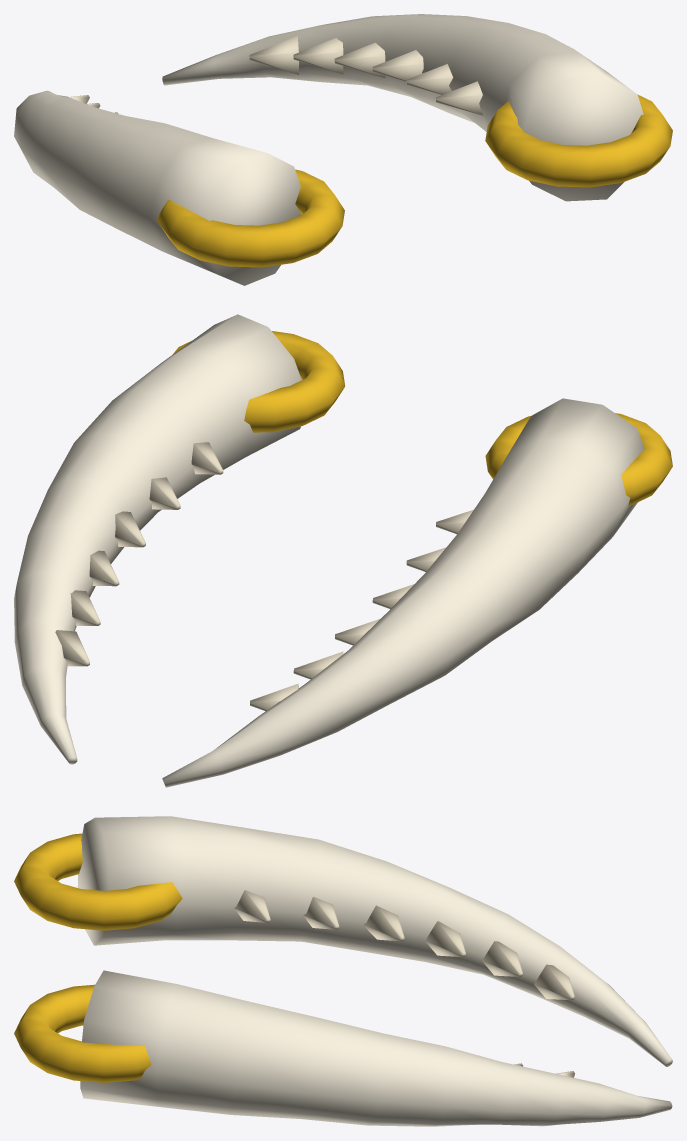
File: cosmetics-fangs.glb
3 renders of one model, top to bottom at view 1: azimuth 30°, elevation 25°; view 2: azimuth 150°, elevation 25°; view 3: azimuth 270°, elevation 25°, orthographic. The views are drawn at different scales.
Parts seen in each view (by area): view 1: Fangs__Tusks, Fangs__Rings, Fangs__Serration; view 2: Fangs__Tusks, Fangs__Rings, Fangs__Serration; view 3: Fangs__Tusks, Fangs__Rings, Fangs__Serration.
Boxes of the visible parts, x1,y1,x2,y2 form: Fangs__Tusks: (14, 14, 643, 285); Fangs__Rings: (157, 94, 672, 267); Fangs__Serration: (68, 36, 483, 115); Fangs__Tusks: (14, 314, 644, 787); Fangs__Rings: (172, 331, 672, 506); Fangs__Serration: (55, 442, 473, 711); Fangs__Tusks: (77, 816, 672, 1126); Fangs__Rings: (14, 833, 182, 1082); Fangs__Serration: (234, 890, 574, 1077).
Bounding box in the file's own units: 1.08 × 0.4125 × 1.32.
